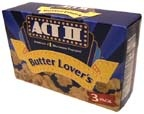grozi_58: (2, 2, 142, 111)
